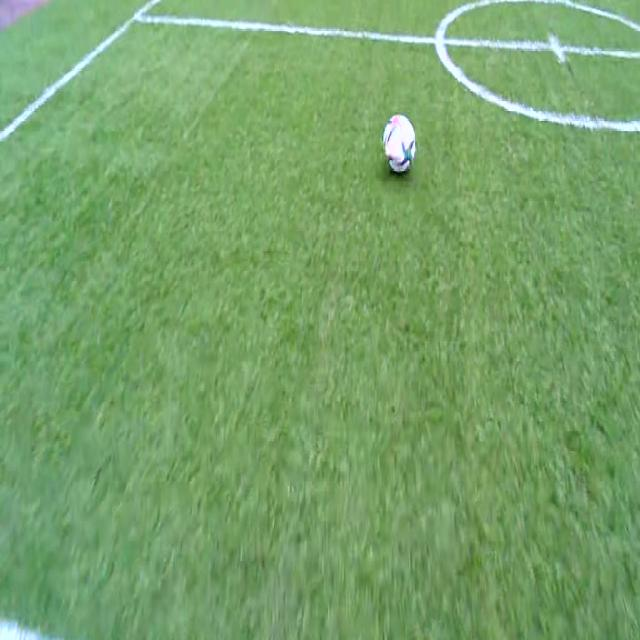ball: (384, 115, 416, 171)
